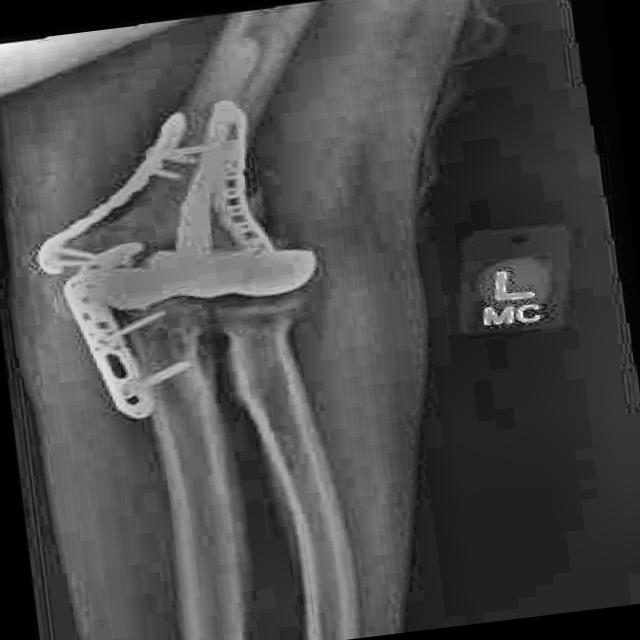elbow positive: (100, 283, 219, 350), (222, 162, 293, 242)
